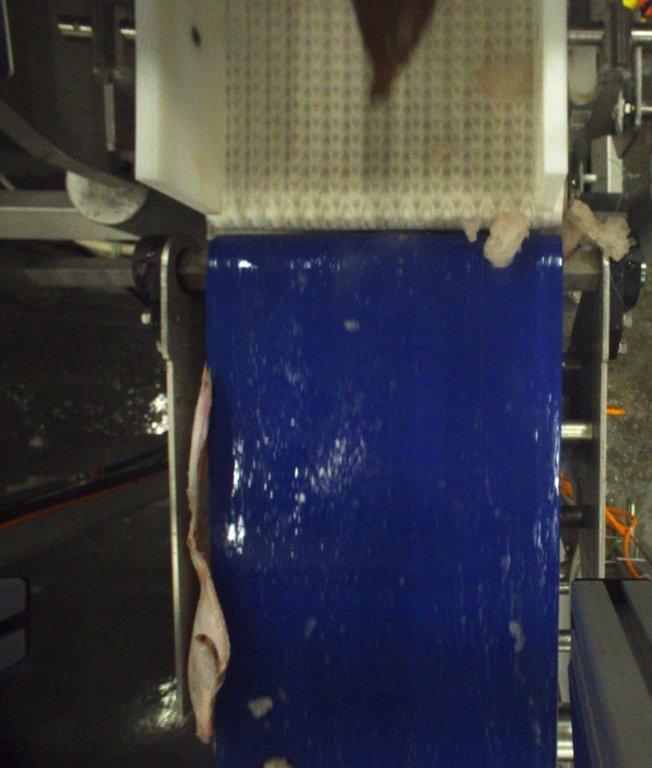SOL: (346, 0, 435, 104)
